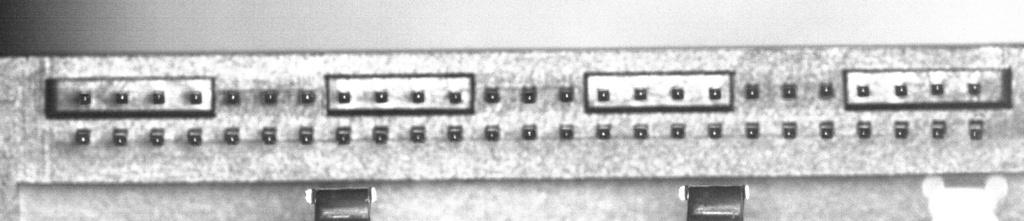pin_ok: (968, 119, 985, 139), (931, 119, 947, 139), (372, 125, 389, 143), (893, 120, 910, 138), (819, 120, 835, 139), (483, 86, 500, 103), (335, 126, 351, 144), (112, 128, 128, 146), (521, 85, 537, 103), (149, 127, 165, 145), (223, 127, 239, 144), (186, 128, 202, 145), (298, 127, 314, 144), (261, 127, 277, 144), (410, 125, 426, 142), (782, 121, 798, 138), (818, 82, 835, 98), (261, 89, 279, 104), (484, 124, 500, 140), (447, 125, 463, 141), (521, 124, 537, 140), (75, 128, 91, 144), (558, 86, 574, 102), (857, 121, 872, 138), (299, 89, 315, 104), (633, 123, 648, 139), (707, 123, 723, 138), (744, 83, 759, 99), (781, 83, 797, 98), (223, 90, 240, 104), (559, 124, 574, 139), (596, 124, 611, 139), (447, 90, 463, 104), (745, 123, 759, 139), (671, 123, 685, 138), (670, 86, 685, 100), (930, 81, 944, 95), (596, 88, 610, 102), (708, 86, 722, 100), (894, 83, 908, 97), (336, 90, 351, 103), (633, 87, 648, 100), (151, 90, 165, 103), (114, 91, 128, 104), (374, 90, 388, 103), (411, 90, 425, 103), (968, 81, 981, 95), (189, 91, 203, 104), (856, 84, 870, 97), (78, 92, 91, 104)
